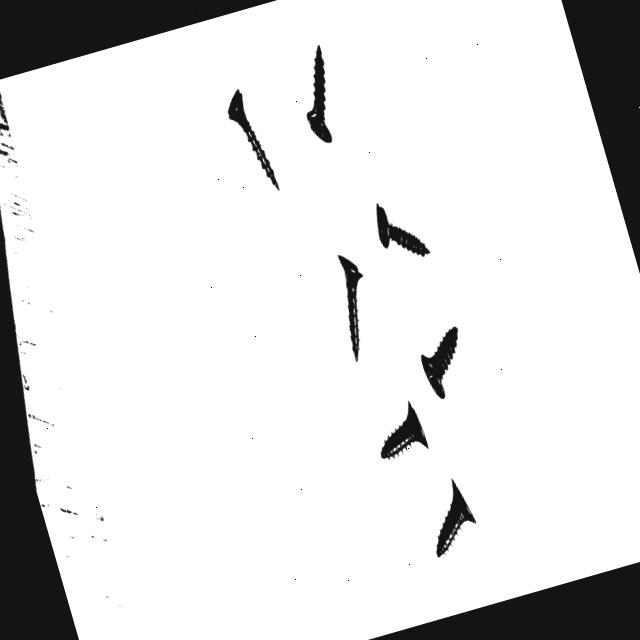Screw: (227, 87, 278, 188), (436, 479, 475, 556), (376, 201, 430, 254), (381, 400, 428, 458), (337, 253, 362, 360), (421, 325, 458, 397), (306, 42, 331, 141)
